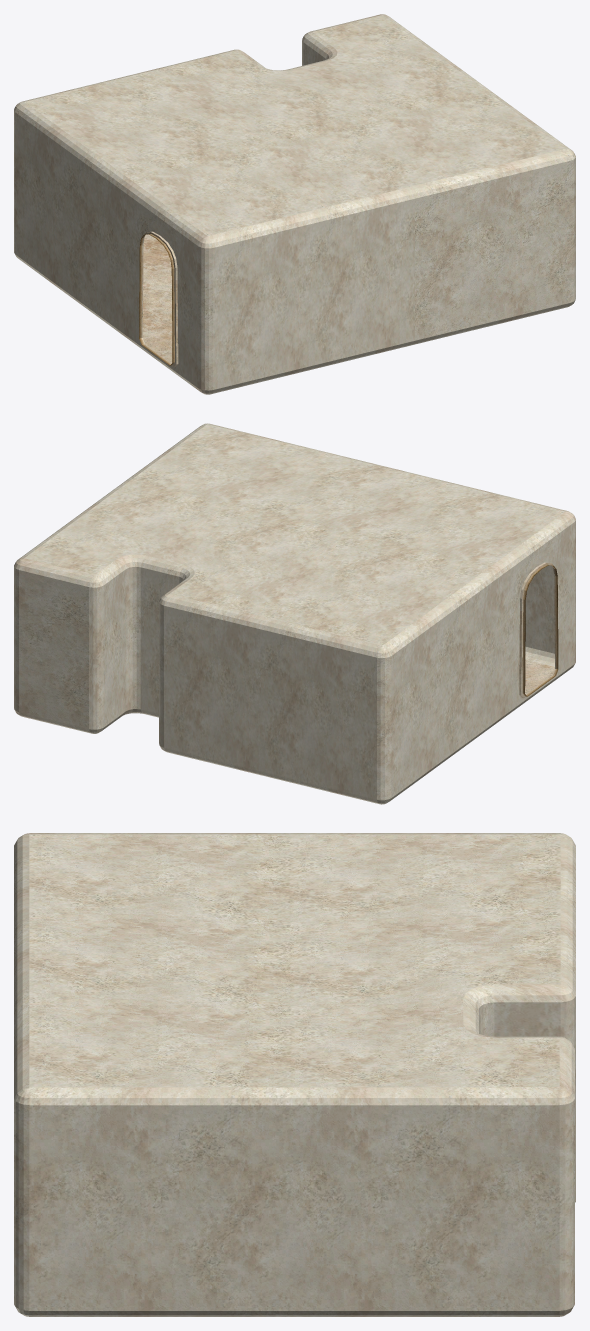
Rendered from ply_tato_house_m_s01_fp1_r5_bedroom3_mesh_r5.fbx.
3 renders of one model, top to bottom at view 1: azimuth 30°, elevation 25°; view 2: azimuth 150°, elevation 25°; view 3: azimuth 270°, elevation 25°, orthographic. The views are drawn at different scales.
Parts seen in each view (by area): view 1: mesh_node; view 2: mesh_node; view 3: mesh_node.
Boxes of the visible parts, box(x1,y1,x2,y2) form: mesh_node: box(14, 14, 575, 394); mesh_node: box(14, 423, 575, 804); mesh_node: box(14, 833, 575, 1316).
Size of the model in its own units: 10.22 by 4.05 by 9.01.
